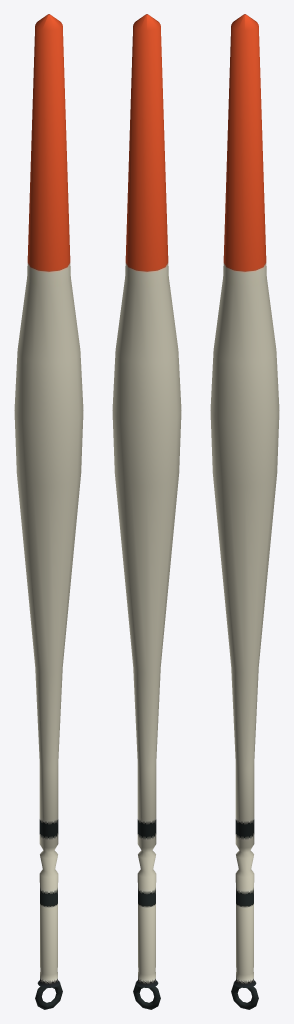
The picture shows the model from 3 angles, left to right: view 1: azimuth 30°, elevation 25°; view 2: azimuth 150°, elevation 25°; view 3: azimuth 330°, elevation 25°; orthographic projection.
Visible parts, largest first — view 1: F03_Float; view 2: F03_Float; view 3: F03_Float.
Part boxes in pixels (left/top/right/bottom): F03_Float: left=14, top=14, right=83, bottom=1009; F03_Float: left=112, top=14, right=181, bottom=1009; F03_Float: left=210, top=14, right=279, bottom=1009.
Bounding box in the file's own units: 0.0126 × 0.2 × 0.0126.
Materials: 1 (1 with a texture image).
